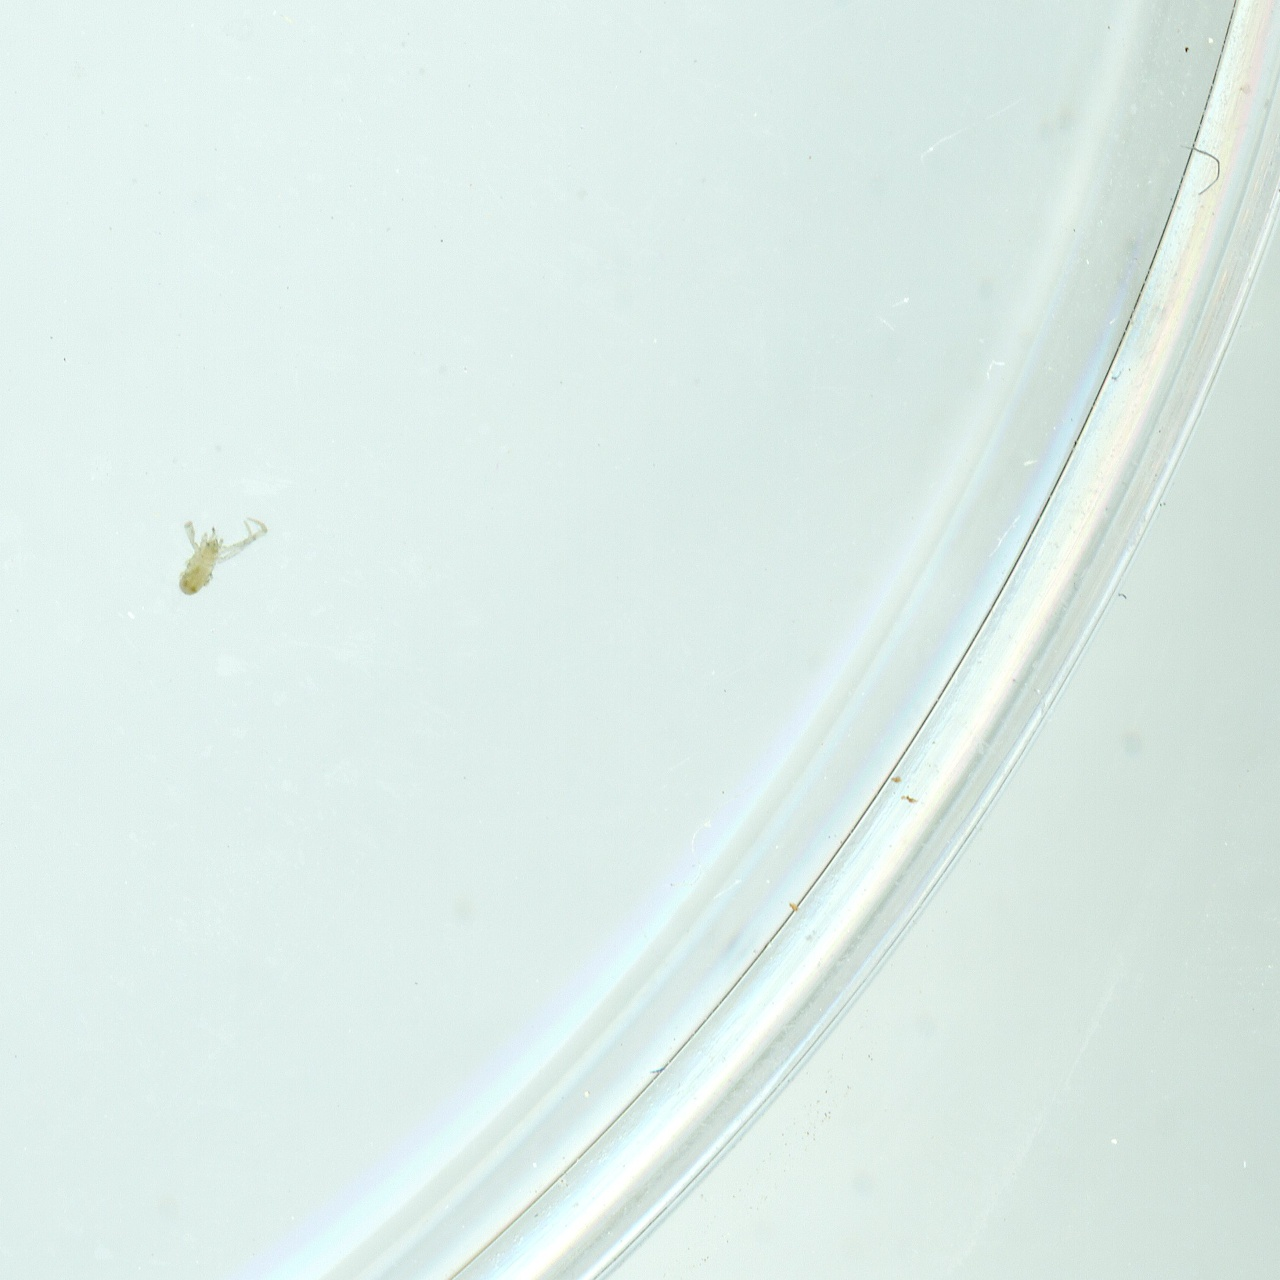arthropod: (158, 491, 275, 618)
